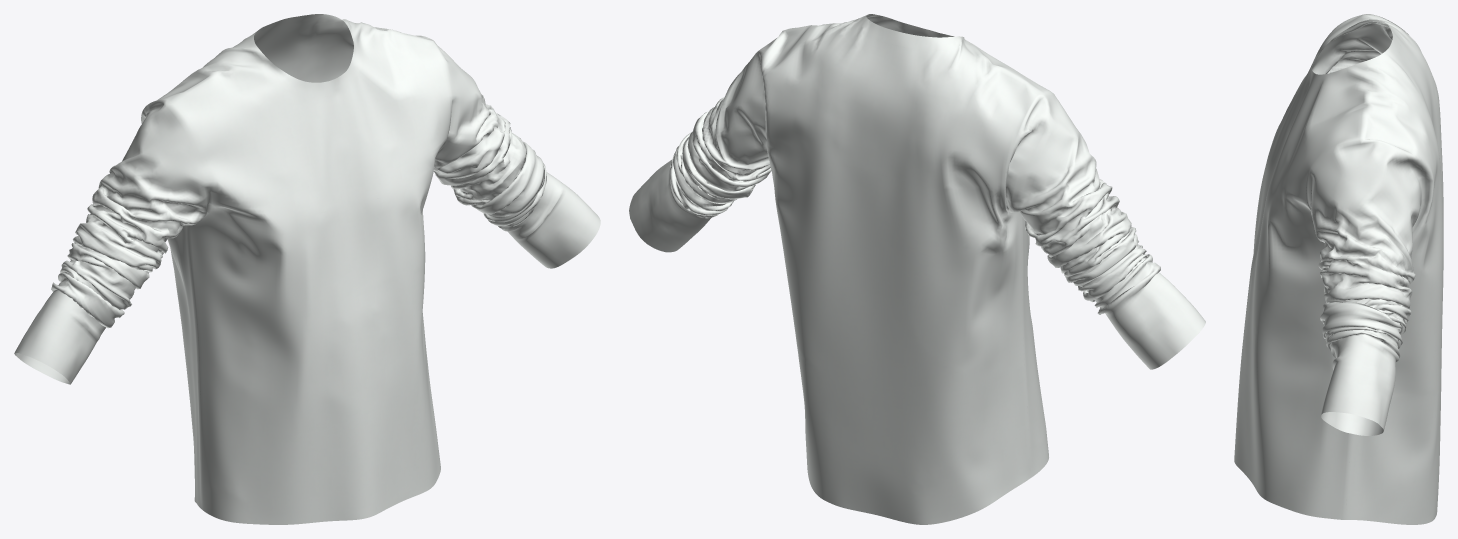
File: Men's Tshirt fbx.fbx
3 views of the same model, side by side, from view 1: azimuth 30°, elevation 25°; view 2: azimuth 150°, elevation 25°; view 3: azimuth 270°, elevation 25° (orthographic). The views are drawn at different scales.
Visible parts, largest first — view 1: Men's Tshirt fbx; view 2: Men's Tshirt fbx; view 3: Men's Tshirt fbx.
Boxes of the visible parts, bbox=[...] form: Men's Tshirt fbx: bbox=[14, 14, 600, 524]; Men's Tshirt fbx: bbox=[629, 14, 1205, 524]; Men's Tshirt fbx: bbox=[1234, 14, 1443, 524].
Size of the model in its own units: 91.94 by 72.71 by 30.03.
